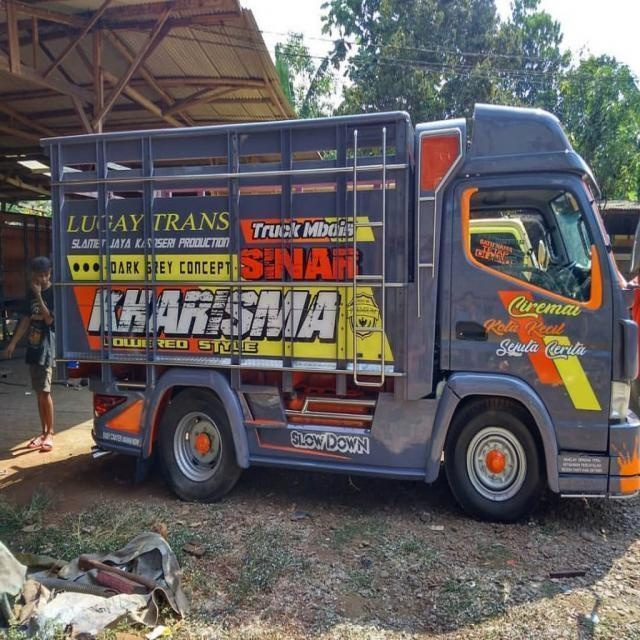Truck: (36, 101, 640, 516)
